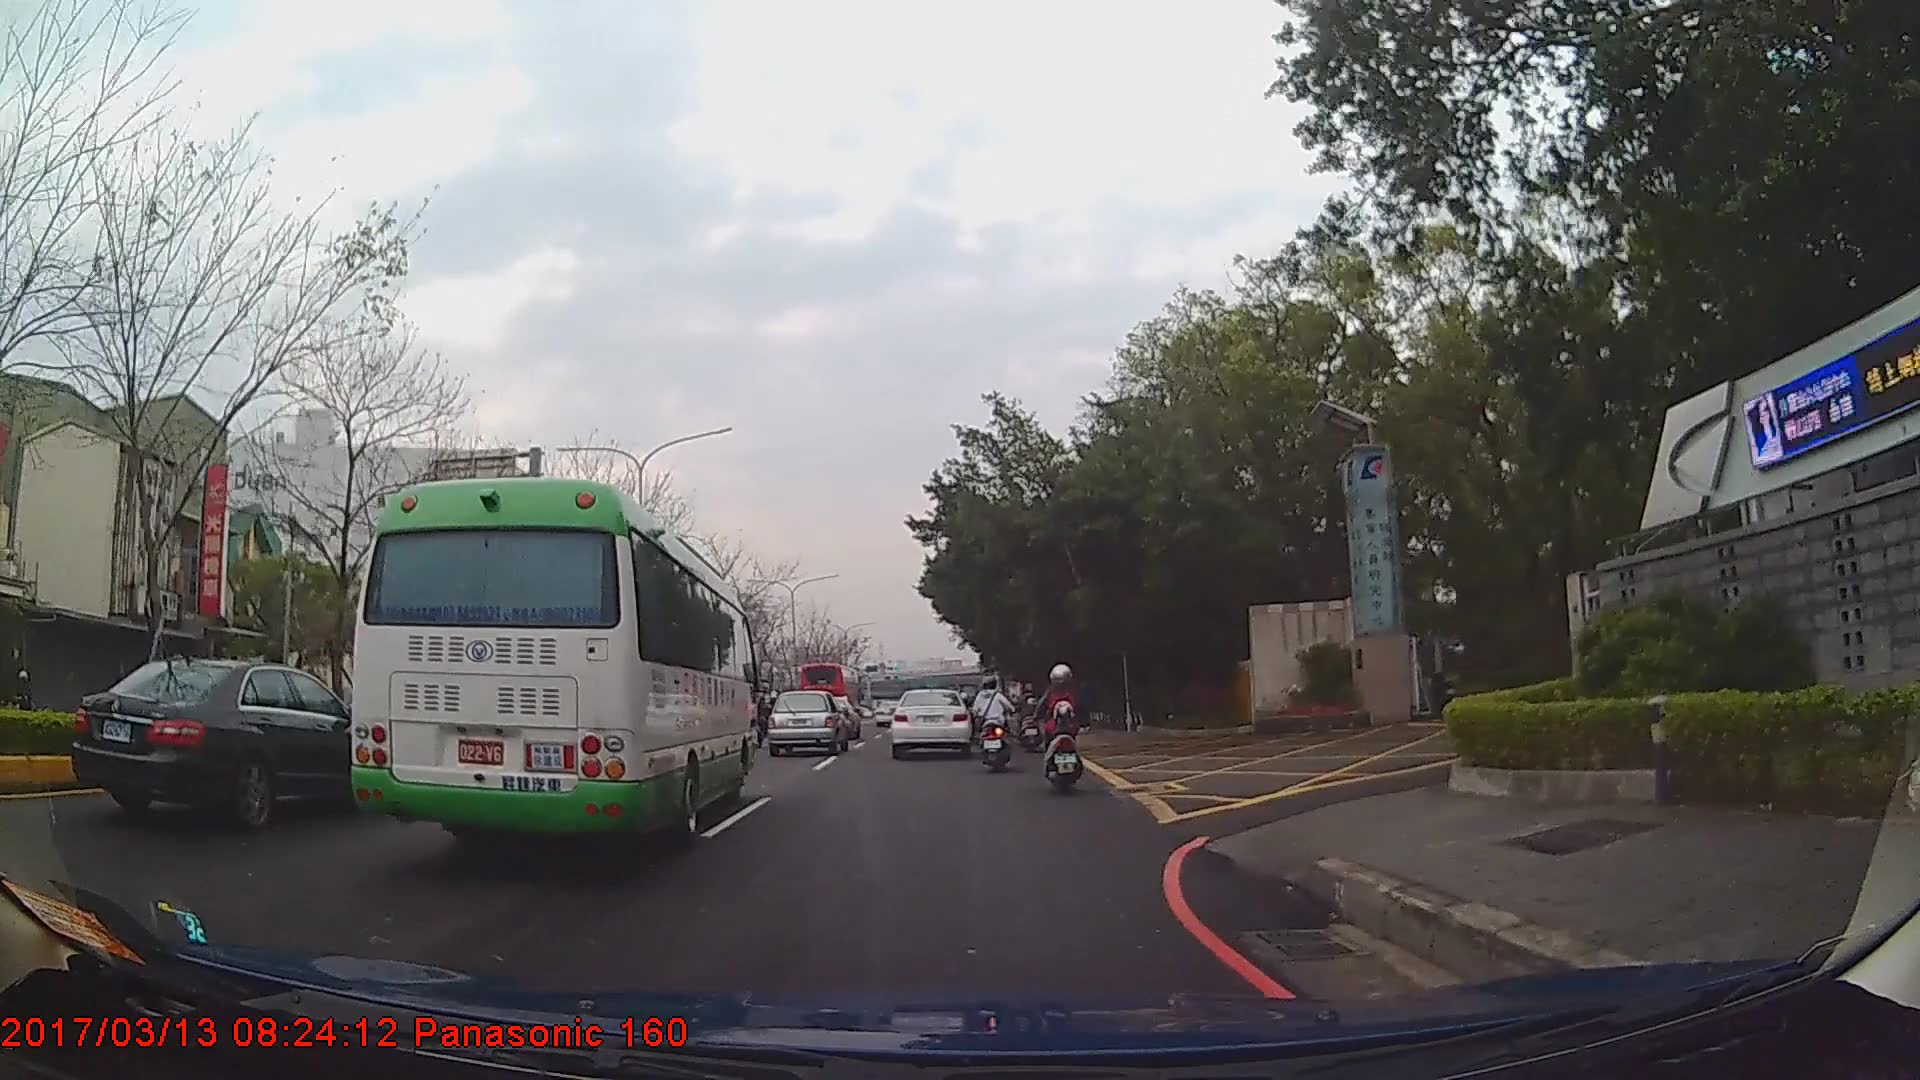rider: (1041, 664, 1085, 800), (969, 676, 1012, 773), (1017, 678, 1044, 751), (745, 687, 772, 742)
vehicle: (338, 472, 755, 854), (69, 654, 409, 829), (888, 685, 970, 757), (766, 688, 851, 754), (796, 658, 860, 722)
